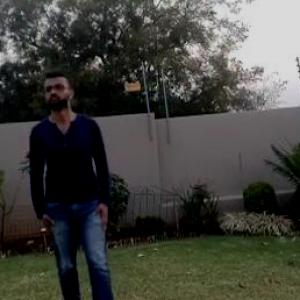follow: (31, 67, 125, 299)
